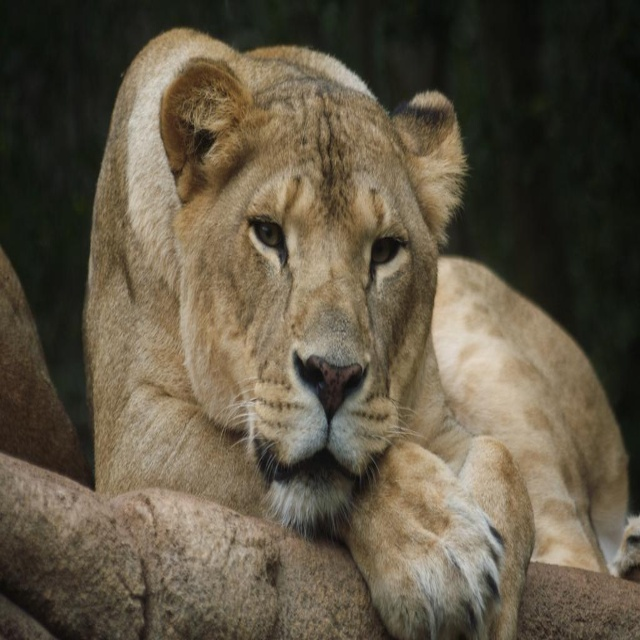Lion: (81, 24, 640, 640)
